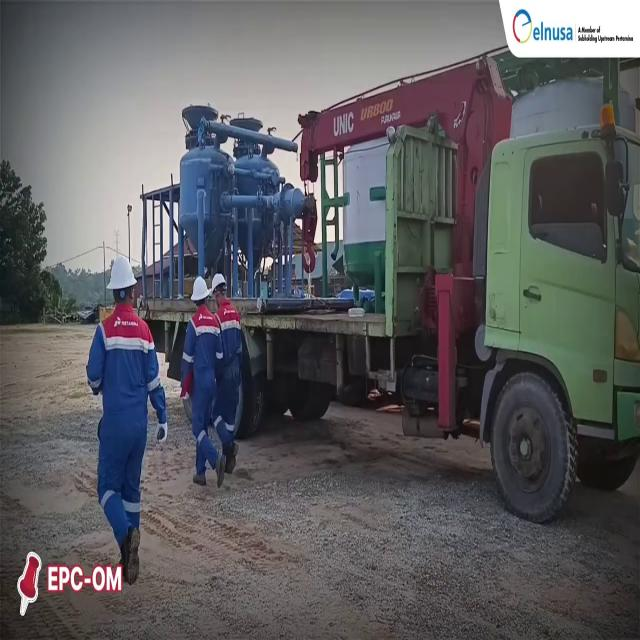Gloves: (154, 424, 169, 446)
Hardhat: (108, 257, 134, 290), (188, 278, 208, 302), (208, 276, 228, 300)
Overall Suit: (87, 306, 167, 550), (180, 309, 217, 469), (217, 306, 240, 454)
Safety Boots: (122, 528, 141, 585), (198, 464, 212, 488), (223, 460, 238, 478)
